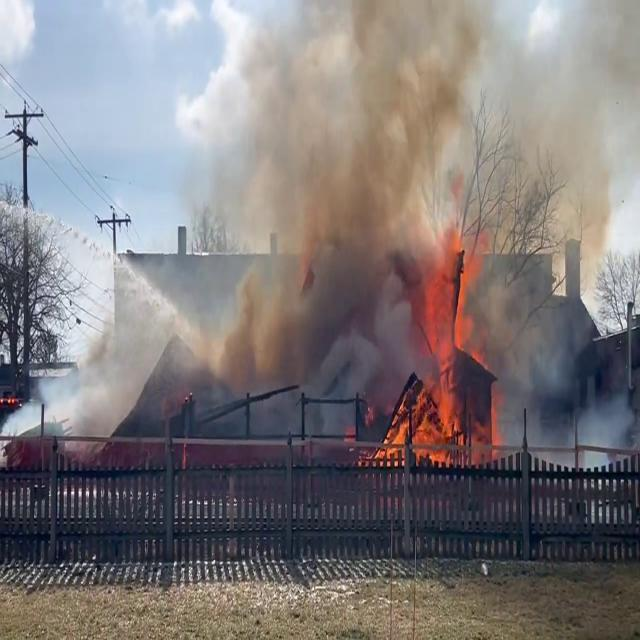Fire: (378, 198, 500, 474)
Smoke: (61, 0, 640, 433)
